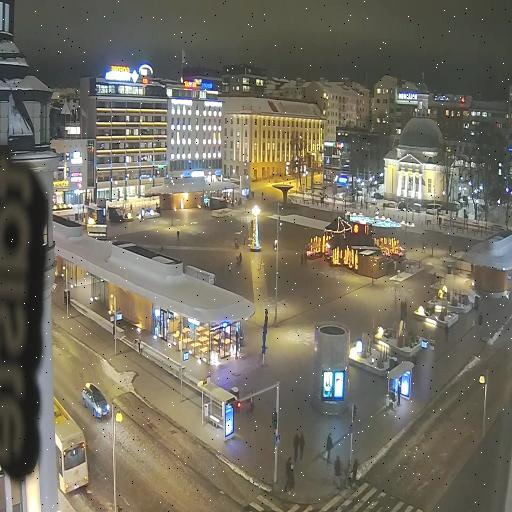Bus: (54, 397, 87, 496)
